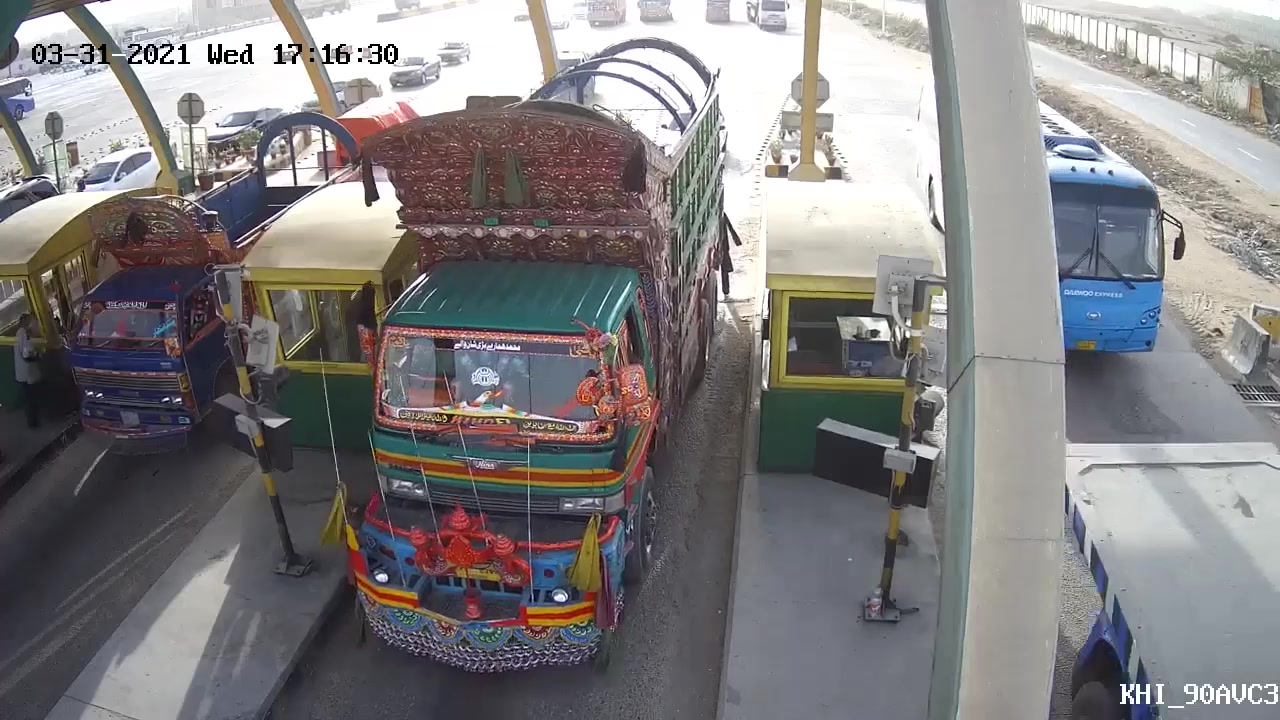F6: (338, 99, 698, 678)
